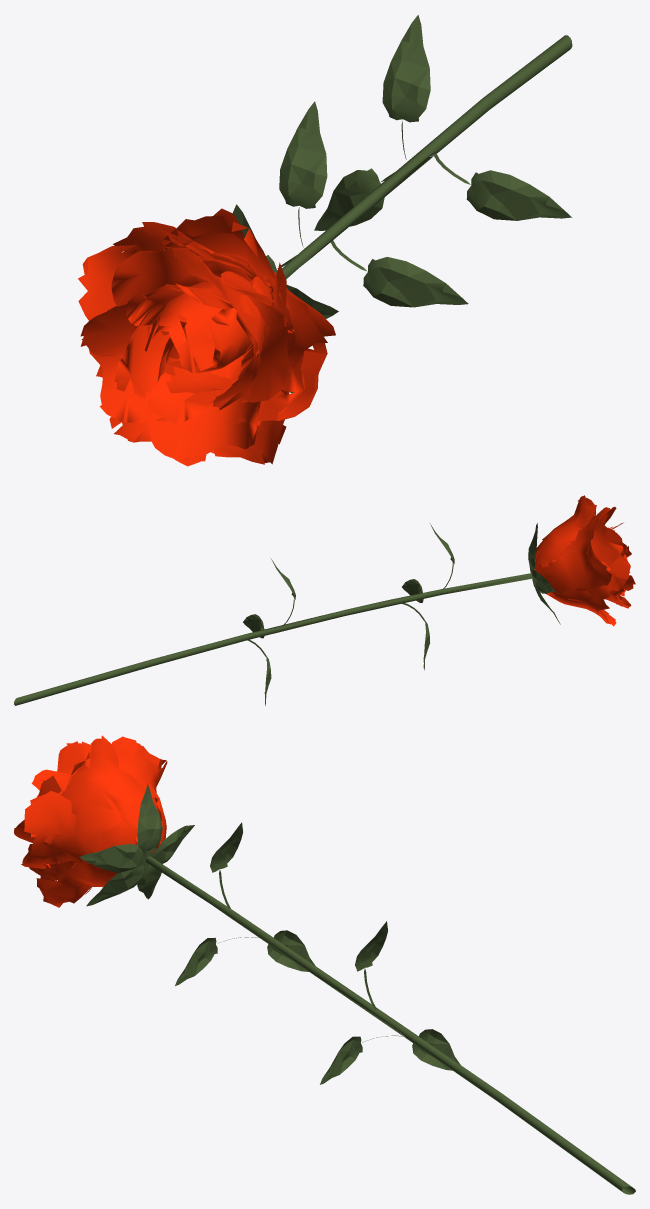
Rendered from rose.fbx.
3 renders of one model, top to bottom at view 1: azimuth 30°, elevation 25°; view 2: azimuth 150°, elevation 25°; view 3: azimuth 270°, elevation 25°, orthographic. The views are drawn at different scales.
Visible parts, largest first — view 1: Group_001; view 2: Group_001; view 3: Group_001.
Part boxes in pixels (x1,y1,x2,y2): Group_001: (78,15,572,466); Group_001: (14,495,635,705); Group_001: (14,735,635,1194).
Bounding box in the file's own units: 3.34 × 1.16 × 3.11.
